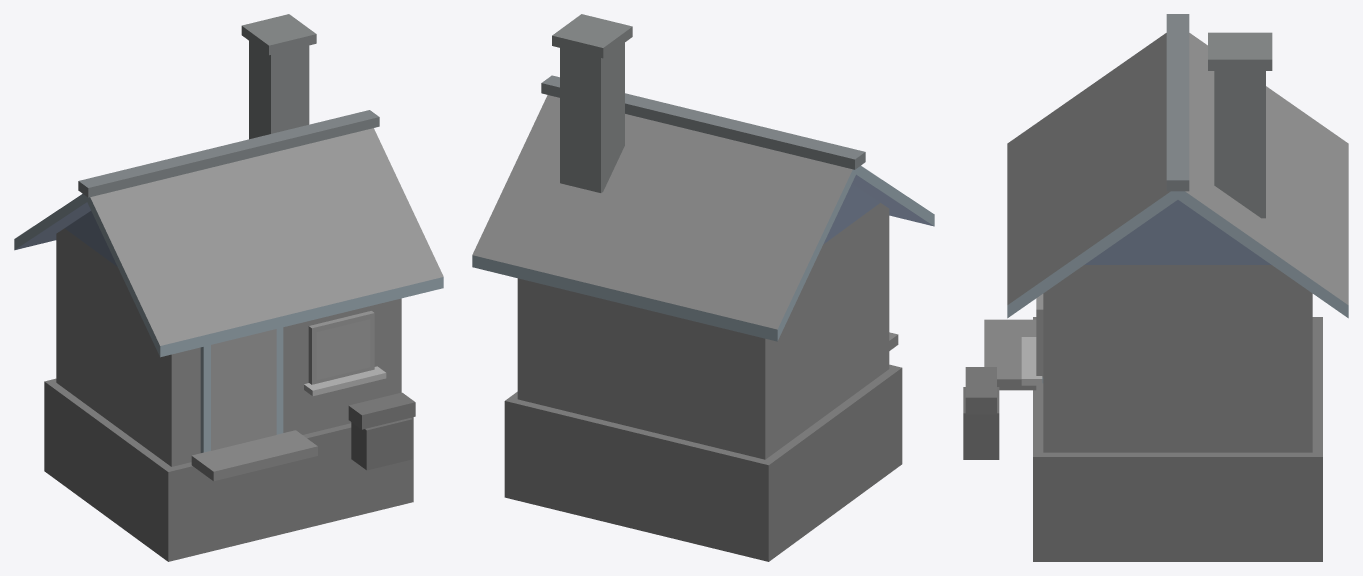
The model's file is workshop.glb.
3 renders of one model, left to right at view 1: azimuth 30°, elevation 25°; view 2: azimuth 150°, elevation 25°; view 3: azimuth 270°, elevation 25°, orthographic. The views are drawn at different scales.
Visible parts, largest first — view 1: workshop; view 2: workshop; view 3: workshop.
Part boxes in pixels (x1=…): workshop: x1=14, y1=14, x2=443, y2=561; workshop: x1=472, y1=14, x2=934, y2=561; workshop: x1=963, y1=14, x2=1348, y2=561.
Size of the model in its own units: 3.8 by 5.22 by 3.73.
